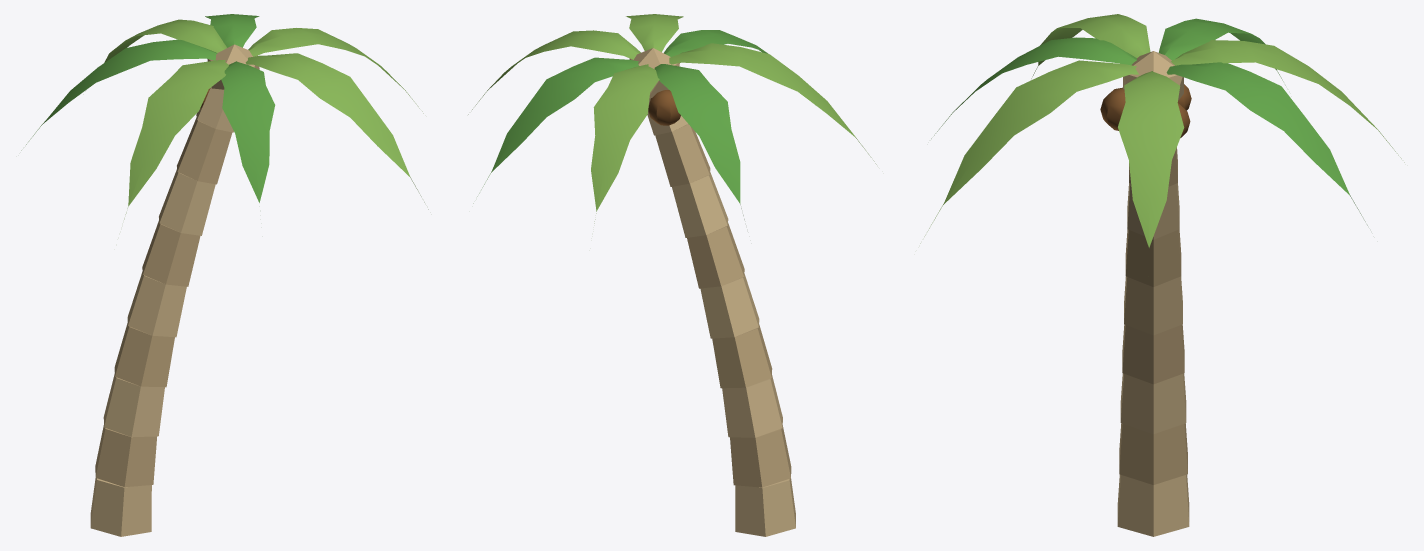
File: beach_palm_short.glb
3 views of the same model, side by side, from view 1: azimuth 30°, elevation 25°; view 2: azimuth 150°, elevation 25°; view 3: azimuth 270°, elevation 25° (orthographic). The views are drawn at different scales.
Visible parts, largest first — view 1: beach_palm_short; view 2: beach_palm_short; view 3: beach_palm_short.
Part boxes in pixels (x1,y1,x2,y2): beach_palm_short: (21, 14, 428, 536); beach_palm_short: (468, 14, 876, 536); beach_palm_short: (920, 14, 1404, 536).
Bounding box in the file's own units: 2.74 × 3.21 × 2.71.
1 material, 1 textured.
